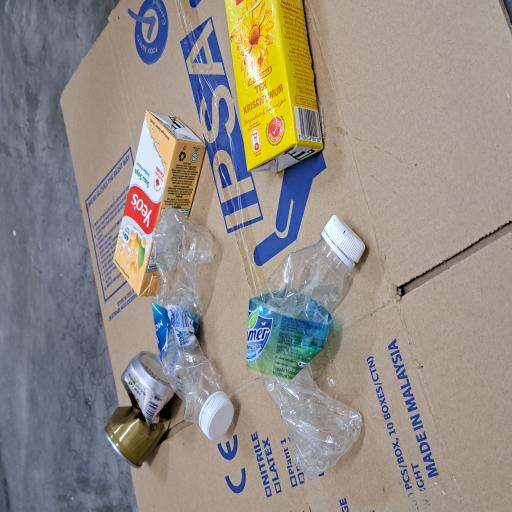can: (33, 137, 120, 232)
cardboard: (0, 79, 384, 512)
drink carton: (160, 149, 302, 275), (254, 301, 384, 432)
plastic bottle: (26, 326, 206, 483), (67, 202, 229, 295)
plastic bottle cap: (54, 266, 90, 312)
